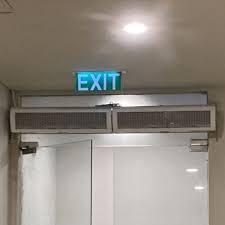exit: (19, 134, 210, 224)
lit_exit_sign: (74, 70, 122, 92)
